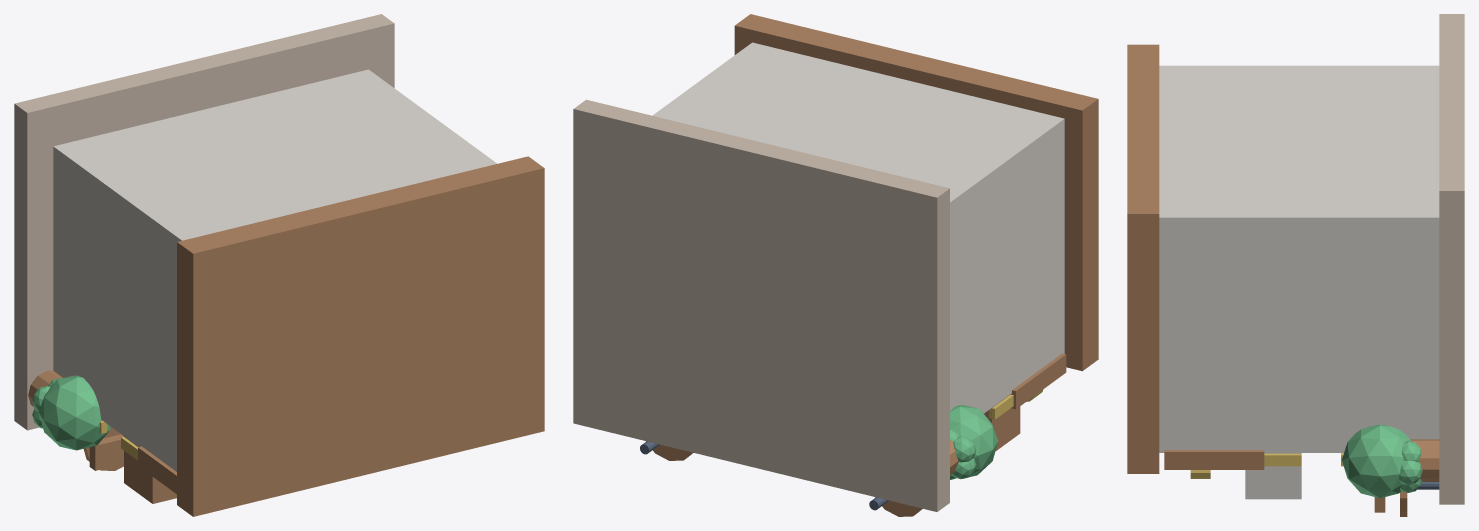
Rendered from cafe_lod1.glb.
3 views of the same model, side by side, from view 1: azimuth 30°, elevation 25°; view 2: azimuth 150°, elevation 25°; view 3: azimuth 270°, elevation 25° (orthographic).
Parts seen in each view (by area): view 1: roof_2, walls_1, plinth_0, plant_20, awning_5, detail_table_detail_59, signboard_3; view 2: plinth_0, walls_1, roof_2, plant_20, signboard_3, awning_5; view 3: walls_1, roof_2, plinth_0, plant_22, signboard_3, awning_12, planter_21, detail_window_trim_5, detail_foliage_28.
Boxes of the visible parts, left/top/right/bottom form: roof_2: left=177, top=156, right=544, bottom=516; walls_1: left=53, top=69, right=497, bottom=471; plinth_0: left=14, top=14, right=394, bottom=430; plant_20: left=38, top=375, right=110, bottom=450; awning_5: left=124, top=436, right=176, bottom=503; detail_table_detail_59: left=89, top=434, right=123, bottom=470; signboard_3: left=138, top=446, right=176, bottom=493; plinth_0: left=573, top=99, right=949, bottom=511; walls_1: left=652, top=42, right=1064, bottom=413; roof_2: left=734, top=14, right=1098, bottom=371; plant_20: left=950, top=405, right=998, bottom=479; signboard_3: left=1010, top=353, right=1066, bottom=409; awning_5: left=984, top=394, right=1020, bottom=451; walls_1: left=1159, top=65, right=1439, bottom=452; roof_2: left=1127, top=44, right=1159, bottom=473; plinth_0: left=1439, top=14, right=1464, bottom=504; plant_22: left=1341, top=424, right=1410, bottom=498; signboard_3: left=1164, top=450, right=1264, bottom=469; awning_12: left=1245, top=453, right=1301, bottom=499; planter_21: left=1410, top=439, right=1439, bottom=481; detail_window_trim_5: left=1264, top=453, right=1301, bottom=466; detail_foliage_28: left=1399, top=461, right=1422, bottom=485.
Bounding box in the file's own units: 4.94 × 4.31 × 3.7.
